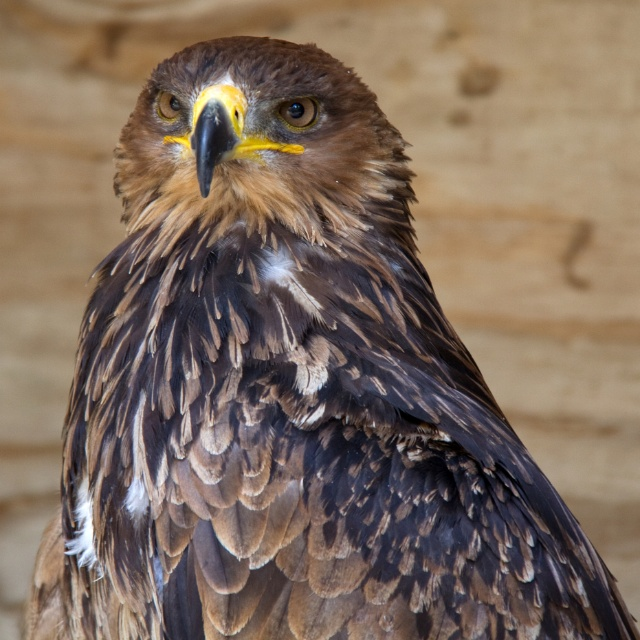Eagle: (21, 35, 640, 640)
